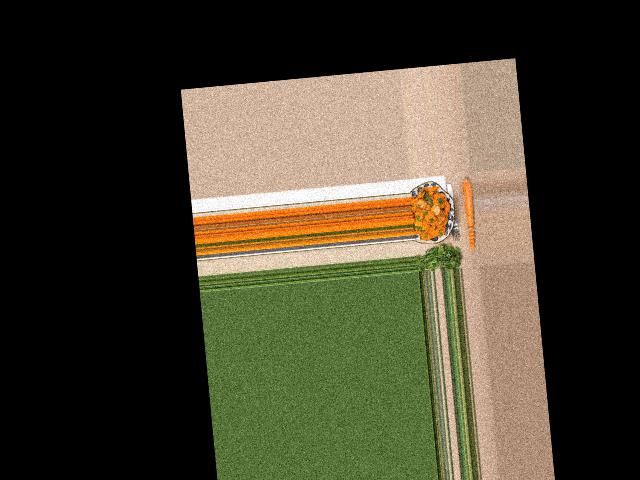carrot: (462, 176, 477, 226)
